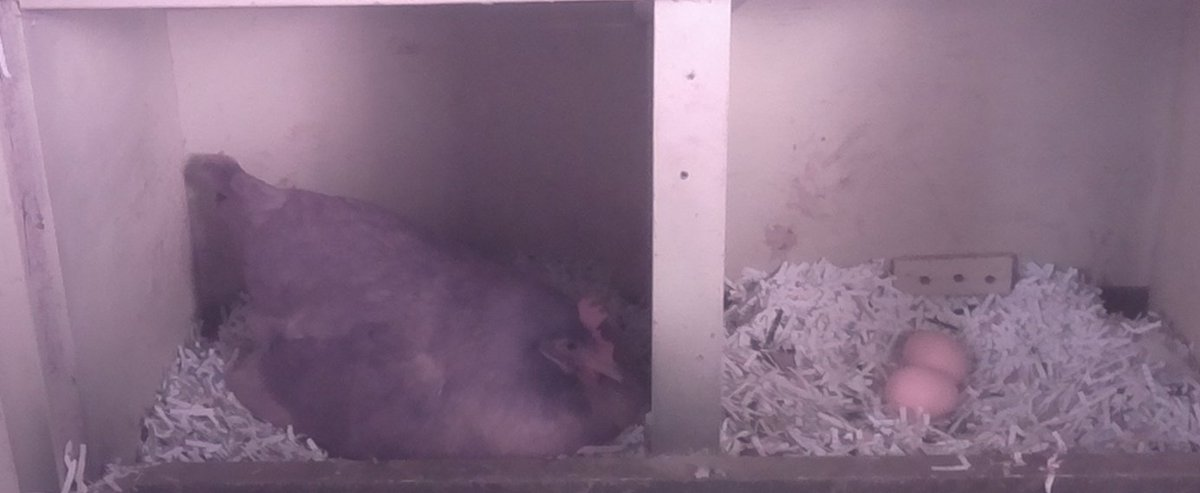egg: (881, 362, 968, 424), (898, 325, 977, 387)
hen: (177, 145, 655, 466)
